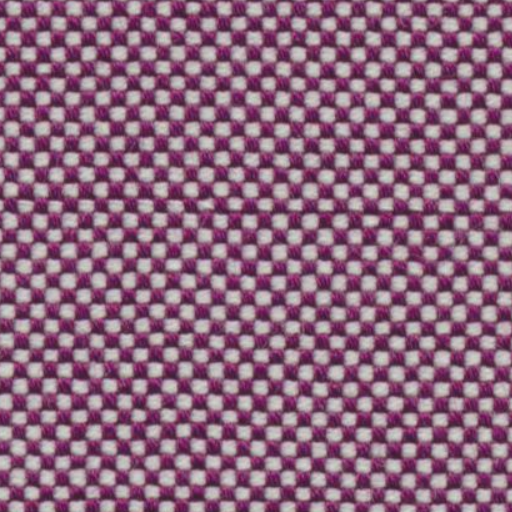TuoSha: (16, 163, 496, 244)
